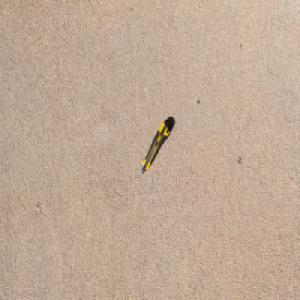Cutter: (140, 117, 173, 175)
